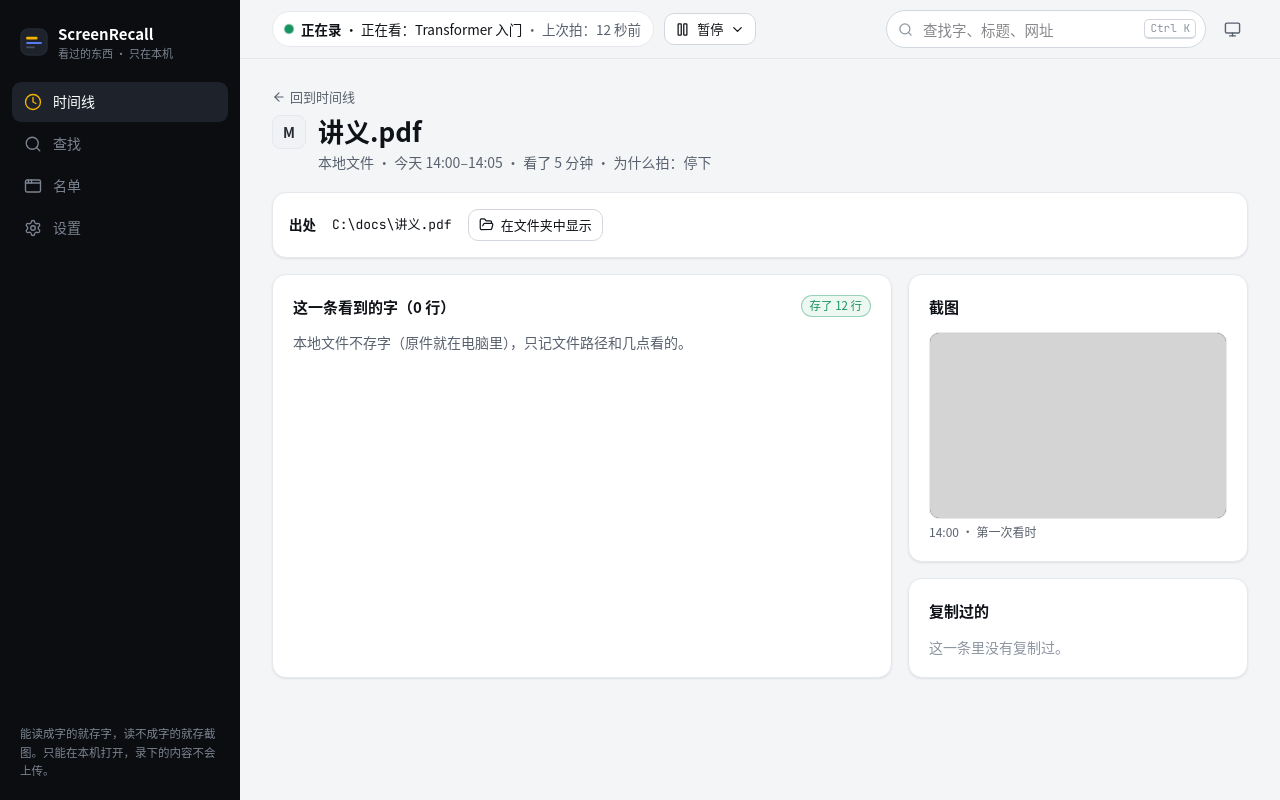
Test: entry page › non-http urls are not links; files get 在文件夹中显示 which posts reveal
Expected: the text "本地文件不存字（原件就在电脑里），只记文件路径和几点看的。" is shown, [293,332,692,352]
Step 1. Click the button "在文件夹中显示" → (535, 225), box [468,209,603,241]
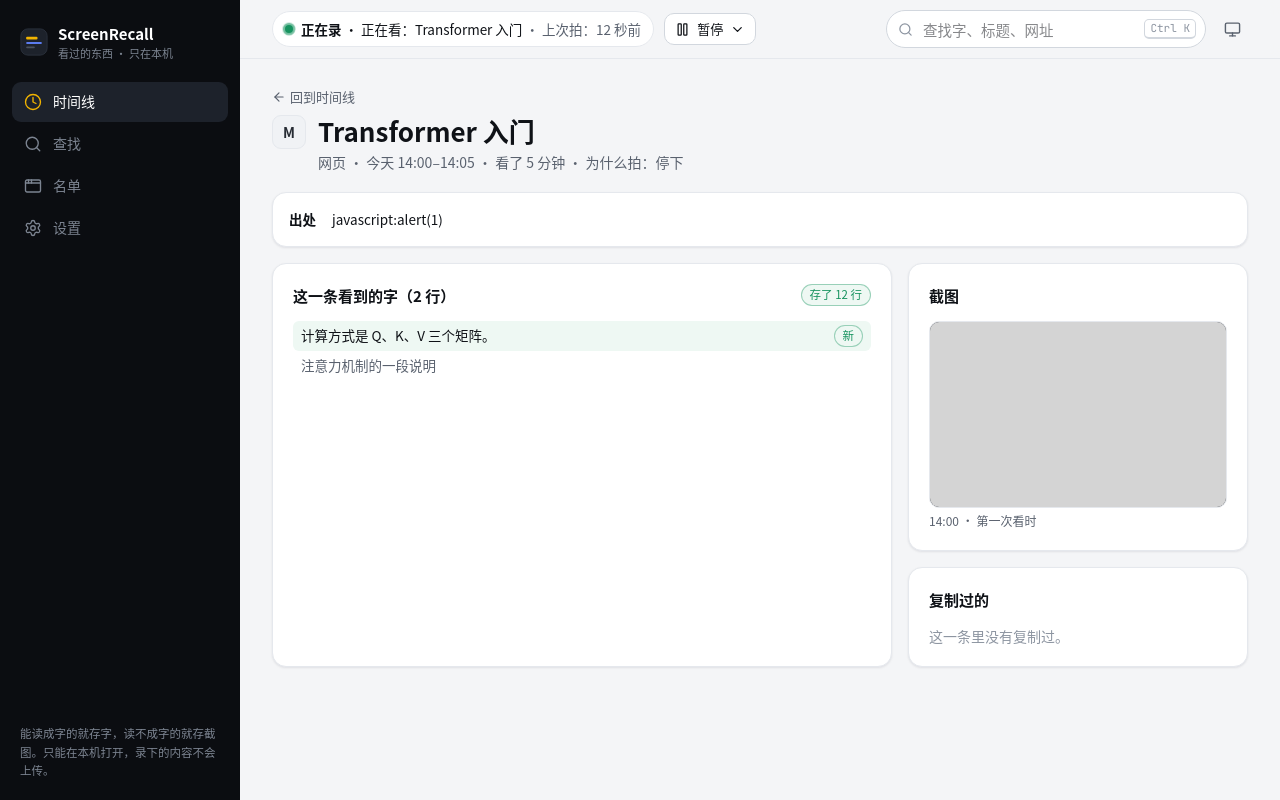
Now the text "javascript:alert(1)" is shown, box [332,209,443,230]
